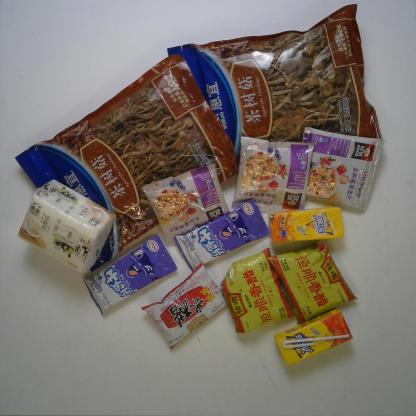Candy: (82, 232, 178, 317), (173, 196, 271, 274)
Dried Food: (13, 52, 239, 274), (166, 2, 384, 166)
Drink: (273, 306, 354, 369), (267, 204, 345, 245)
Instant Drink: (140, 162, 230, 250), (301, 126, 384, 214), (230, 135, 316, 215)
Seasoner: (266, 239, 360, 326), (140, 259, 228, 351), (219, 246, 294, 336)
Tissue: (16, 177, 119, 275)
